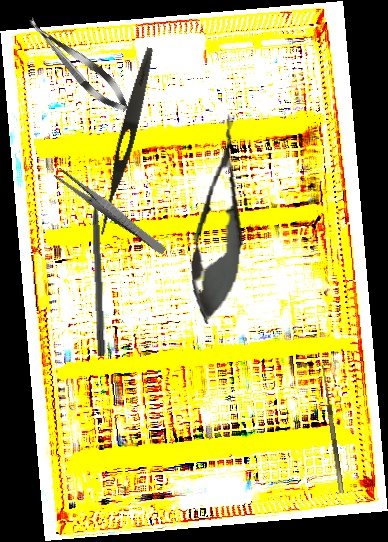Dressing Forceps: (94, 45, 159, 238), (52, 165, 170, 257)
Hook Surgical: (315, 364, 344, 495)
Micro Scissor: (182, 111, 257, 328), (20, 9, 136, 120)
Pusher: (90, 179, 108, 357)
